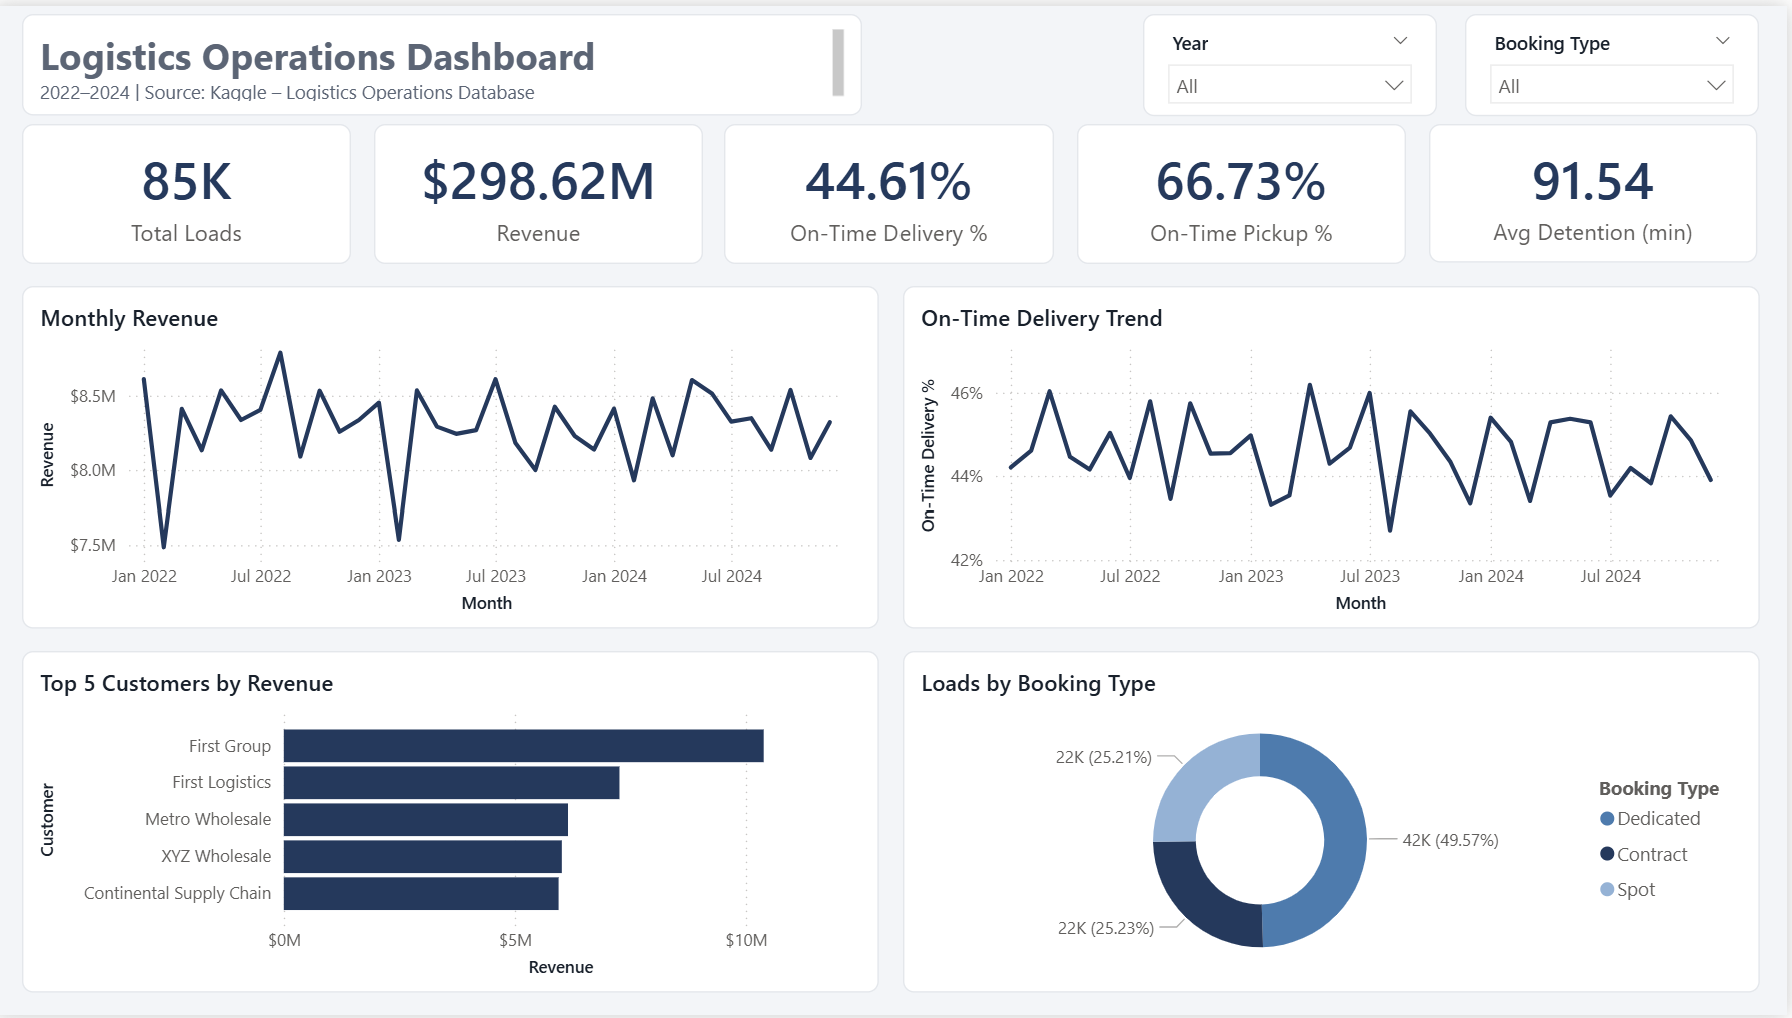

This screenshot's page, from the dashboard's own definition file:
{"tool":"powerbi","page":{"name":"Overview","canvas":[1280,720],"ordinal":0},"visuals":[{"type":"slicer","fields":{"Values":["Date.Year"]},"box":[820,5,210,73],"z":0},{"type":"slicer","fields":{"Values":["loads.booking_type"]},"box":[1050,5,210.2,73],"z":1000},{"type":"textbox","box":[20,5,599.8,72.3],"z":2000},{"type":"card","fields":{"Values":["loads.Avg Detention (min)"]},"box":[1024,84,234.3,99.1],"z":3000},{"type":"card","fields":{"Values":["loads.On-Time Delivery %"]},"box":[522,84,235,100],"z":4000},{"type":"card","fields":{"Values":["loads.On-Time Pickup %"]},"box":[773,84,235,100],"z":5000},{"type":"card","fields":{"Values":["loads.Total Billed"]},"box":[271,84,235,100],"z":6000},{"type":"card","fields":{"Values":["loads.Total Loads"]},"box":[20,84,235,100],"z":7000},{"type":"lineChart","title":"Monthly Revenue","fields":{"Y":["loads.Total Billed"],"Category":["Date.Month Start"]},"box":[20.1,200,612,244],"z":8000},{"type":"lineChart","title":"On-Time Delivery Trend","fields":{"Y":["loads.On-Time Delivery %"],"Category":["Date.Month Start"]},"box":[648,200,612,244],"z":9000},{"type":"clusteredBarChart","title":"Top 5 Customers by Revenue","fields":{"Y":["loads.Total Billed"],"Category":["customers.customer_name"]},"box":[20,460,612,244],"z":10000},{"type":"donutChart","title":"Loads by Booking Type","fields":{"Category":["loads.booking_type"],"Y":["loads.Total Loads"]},"box":[648,460,612,244],"z":11000}]}

Visuals, with their boxes in screenshot pixels (x1, y1, x2, y2), scaled from the page's 1280x720 canvas onto the 1792x1018 screenshot:
slicer - Date.Year: 1148,7,1442,110
slicer - loads.booking_type: 1470,7,1764,110
textbox: 28,7,868,109
card - loads.Avg Detention (min): 1434,119,1762,259
card - loads.On-Time Delivery %: 731,119,1060,260
card - loads.On-Time Pickup %: 1082,119,1411,260
card - loads.Total Billed: 379,119,708,260
card - loads.Total Loads: 28,119,357,260
"Monthly Revenue" lineChart: 28,283,885,628
"On-Time Delivery Trend" lineChart: 907,283,1764,628
"Top 5 Customers by Revenue" clusteredBarChart: 28,650,885,995
"Loads by Booking Type" donutChart: 907,650,1764,995
